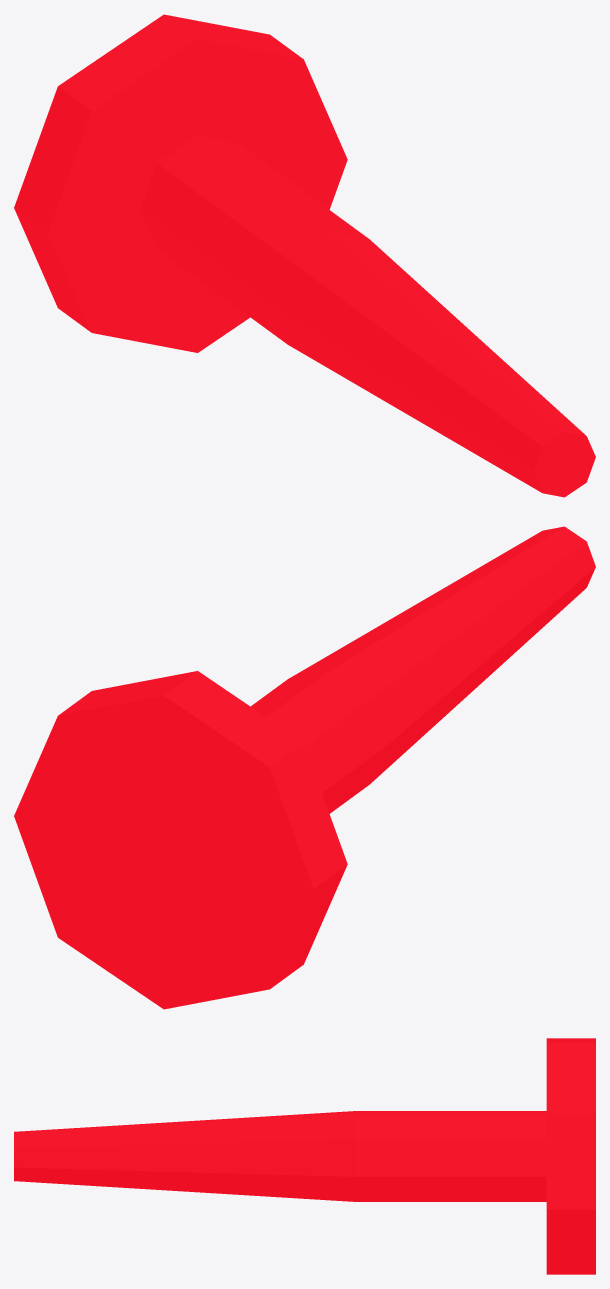
File: enemyNail.glb
3 renders of one model, top to bottom at view 1: azimuth 30°, elevation 25°; view 2: azimuth 150°, elevation 25°; view 3: azimuth 270°, elevation 25°, orthographic. The views are drawn at different scales.
Visible parts, largest first — view 1: Cylinder; view 2: Cylinder; view 3: Cylinder.
Boxes of the visible parts, x1,y1,x2,y2 form: Cylinder: [14, 14, 595, 497]; Cylinder: [14, 526, 595, 1009]; Cylinder: [14, 1038, 595, 1274].
Size of the model in its own units: 0.4634 by 0.4634 by 1.07.
